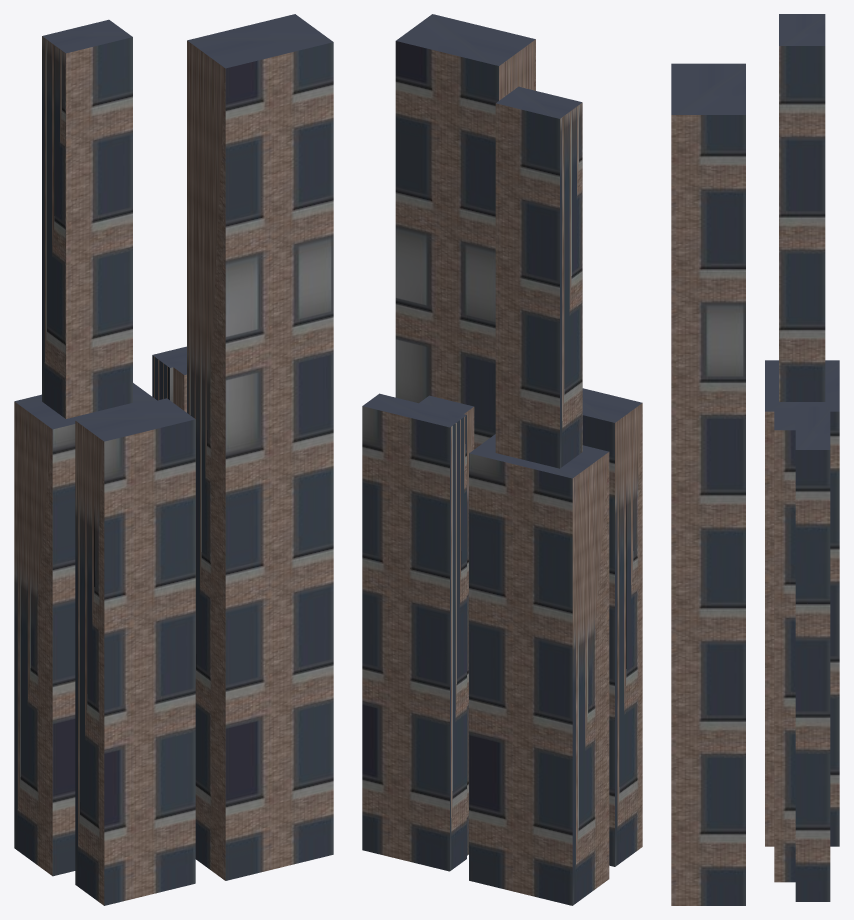
Rendered from block_10.obj.
3 views of the same model, side by side, from view 1: azimuth 30°, elevation 25°; view 2: azimuth 150°, elevation 25°; view 3: azimuth 270°, elevation 25° (orthographic). The views are drawn at different scales.
Visible parts, largest first — view 1: b3, b0, b1, b2; view 2: b0, b2, b3, b1; view 3: b3, b0, b2.
Part boxes in pixels (x1,y1,x2,y2): b3: (187,14,333,880); b0: (14,19,156,876); b1: (75,398,195,905); b2: (152,346,186,412); b0: (469,86,609,905); b2: (362,393,474,871); b3: (395,14,535,448); b1: (582,388,642,866); b3: (671,63,745,905); b0: (765,14,839,846); b2: (774,406,830,901).
Size of the model in its own units: 4.2 by 14 by 2.7.
